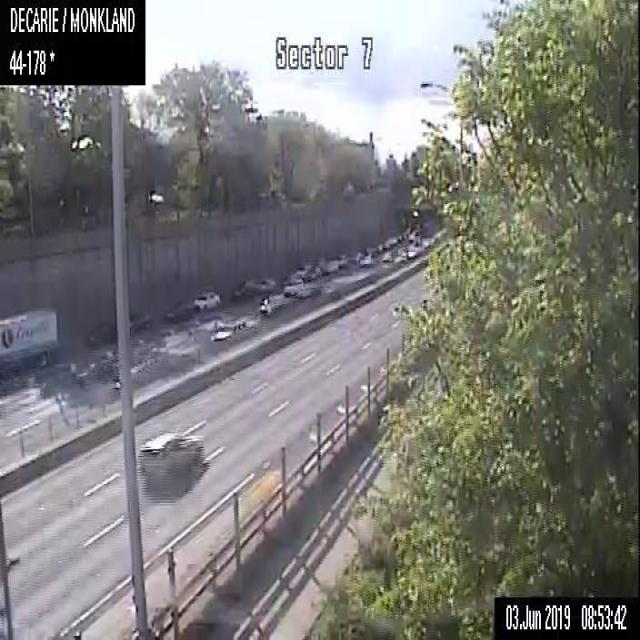vehicle: (0, 305, 58, 387), (136, 429, 202, 482), (211, 316, 250, 343), (88, 314, 118, 346), (260, 291, 285, 314), (194, 289, 219, 312), (165, 299, 192, 320), (232, 280, 260, 300), (128, 311, 149, 335), (282, 278, 305, 296), (287, 266, 310, 281), (317, 258, 340, 272), (257, 276, 277, 292), (302, 263, 319, 279), (356, 251, 374, 266), (381, 250, 393, 261)
